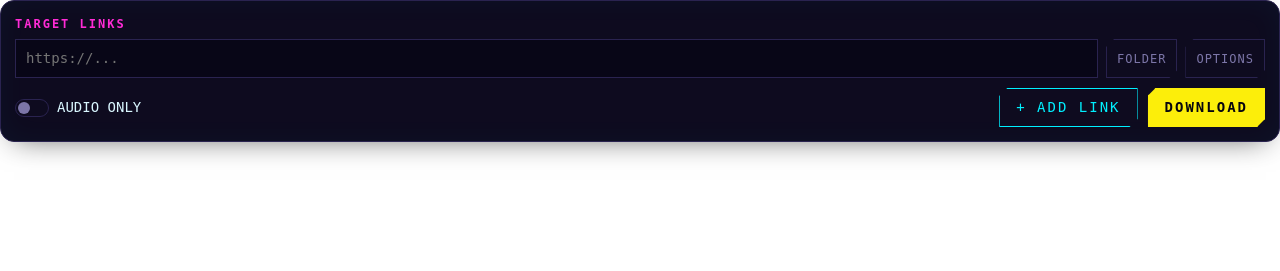
Test: UrlInput rows › removes the chosen row and keeps the values of the others
This screenshot has width=1280, height=271.
Click the button "+ ADD LINK".
click(1068, 108)  # box [999,88,1138,127]
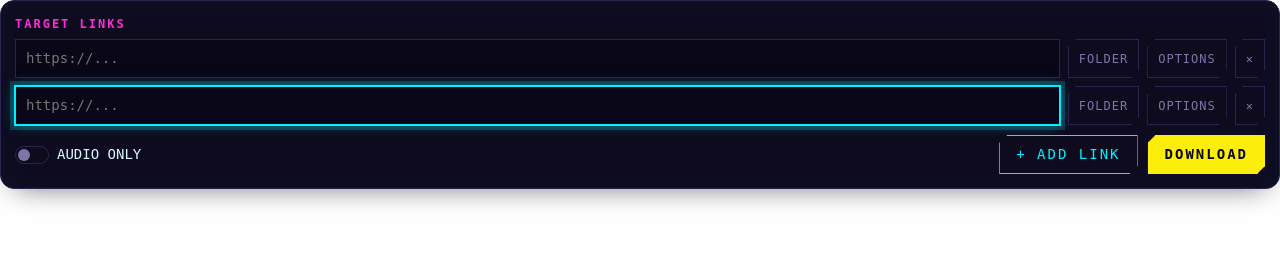
Click the button "+ ADD LINK".
click(1068, 154)  # box [999,135,1138,174]
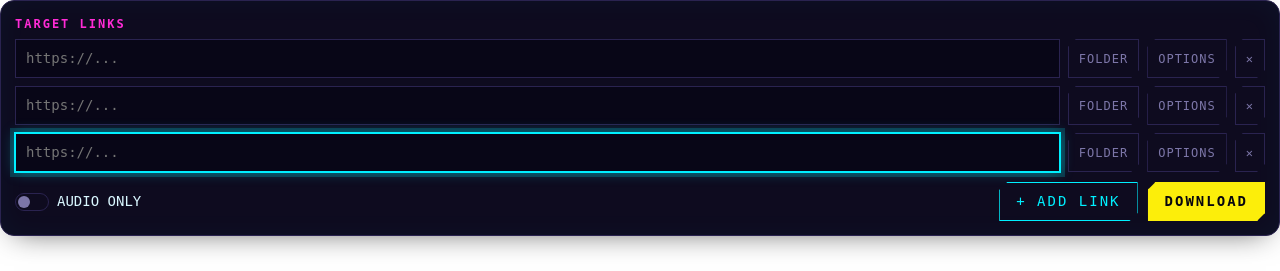
Type "https://a.com" into the field named "Link 1".
click(537, 58); type("https://a.com")  # box [15,39,1060,78]
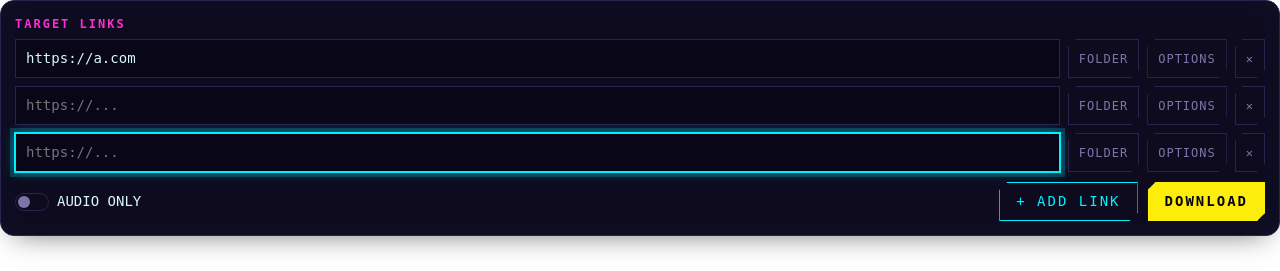
Type "https://b.com" into the field named "Link 2".
click(537, 106); type("https://b.com")  # box [15,86,1060,125]
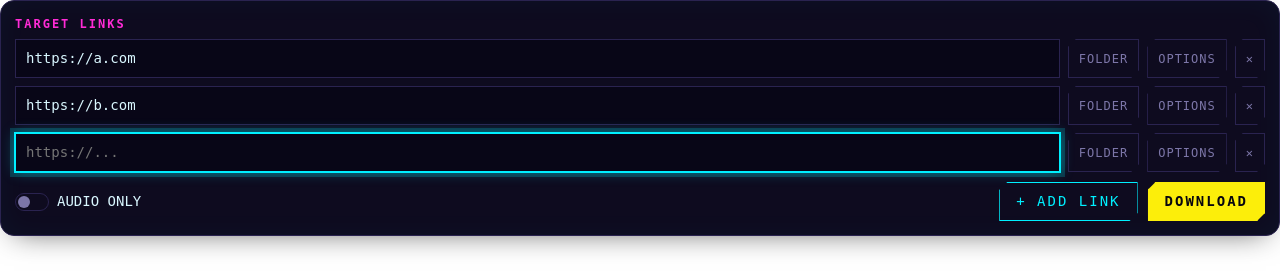
Type "https://c.com" into the field with placeholder "https://...".
click(537, 152); type("https://c.com")  # box [15,133,1060,172]
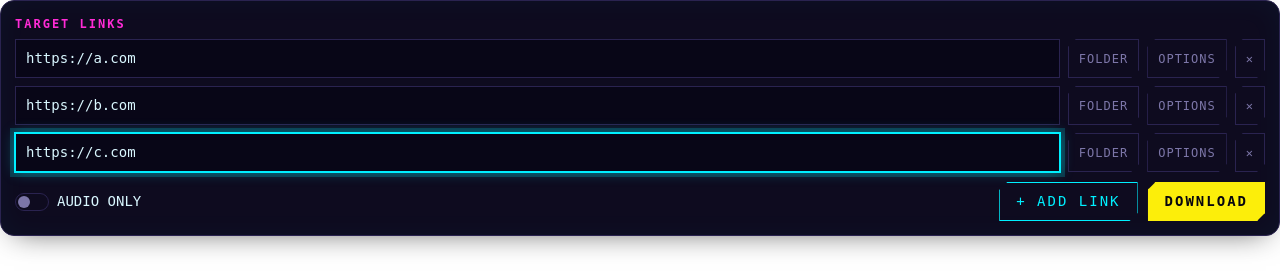
Click the button named "Remove link 2".
click(1250, 106)  # box [1235,86,1265,125]
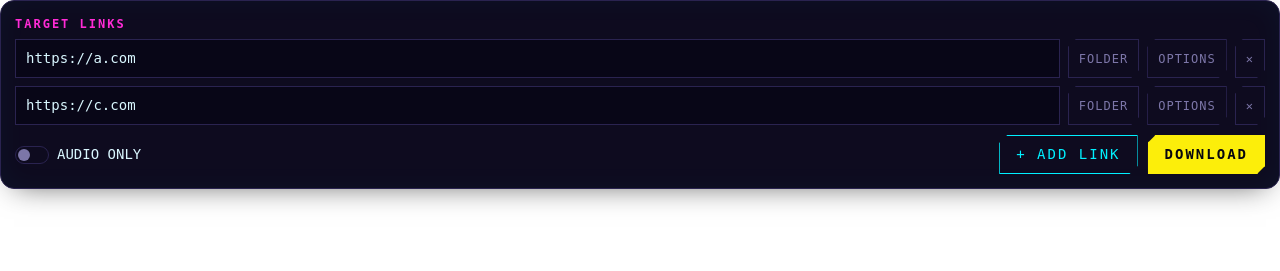
Expected: the number of fields named "Link 1" is 2, [15,39,1060,78]; [15,86,1060,125]
